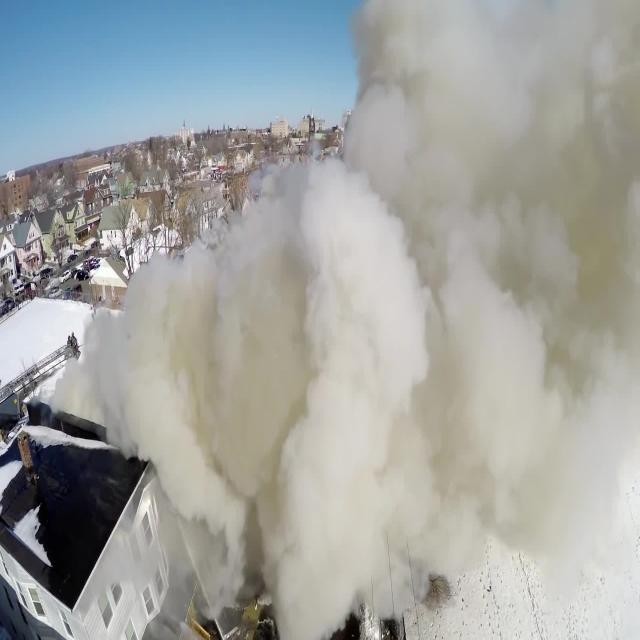Smoke: (49, 1, 636, 612)
